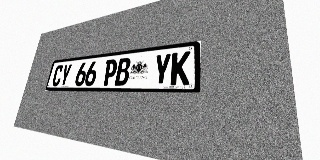6: (84, 61, 99, 86), (74, 62, 88, 86)
B: (114, 57, 131, 86)
C: (51, 65, 64, 86)
K: (170, 51, 191, 85)
P: (102, 59, 118, 86)
Y: (152, 53, 172, 85), (59, 64, 72, 86)
